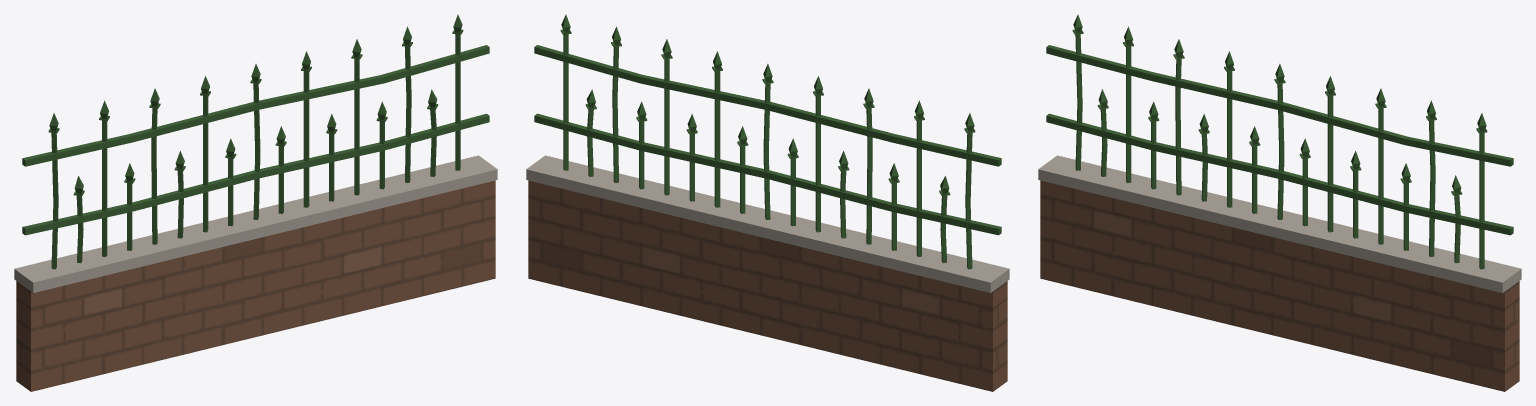
File: SM_Props_City_Park_Fence.fbx
The picture shows the model from 3 angles, left to right: view 1: azimuth 30°, elevation 25°; view 2: azimuth 150°, elevation 25°; view 3: azimuth 330°, elevation 25°; orthographic projection.
Parts seen in each view (by area): view 1: SM_Props_City_Park_Fence; view 2: SM_Props_City_Park_Fence; view 3: SM_Props_City_Park_Fence.
Part boxes in pixels (x1,y1,x2,y2): SM_Props_City_Park_Fence: (14, 14, 497, 391); SM_Props_City_Park_Fence: (526, 14, 1009, 391); SM_Props_City_Park_Fence: (1038, 14, 1521, 391).
Size of the model in its own units: 460 by 252 by 32.74.
